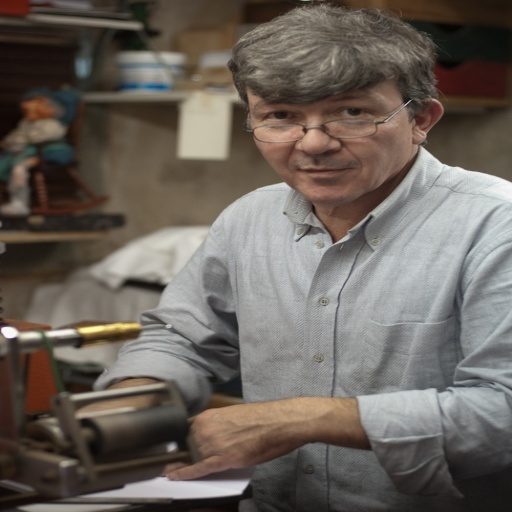hand: (180, 390, 367, 472), (73, 376, 163, 412)
